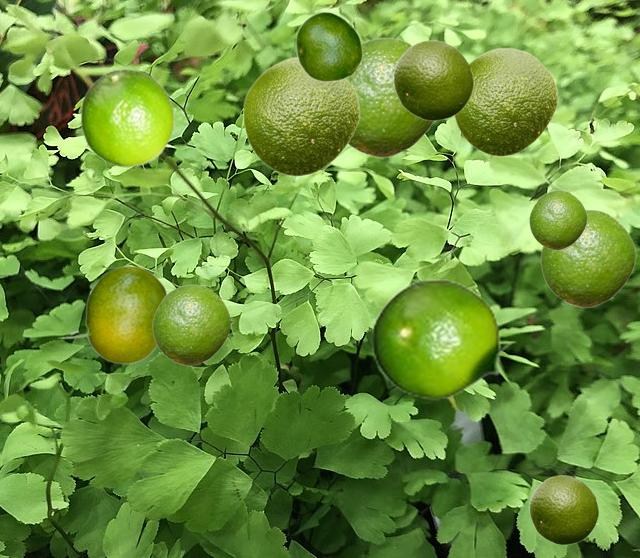calamansi: (370, 279, 515, 399), (242, 56, 359, 176), (454, 47, 557, 156), (57, 265, 167, 363), (348, 37, 434, 157), (540, 209, 635, 307), (80, 68, 174, 166), (393, 39, 473, 120), (152, 284, 230, 365), (529, 474, 598, 544), (295, 11, 362, 81), (529, 190, 586, 249)
